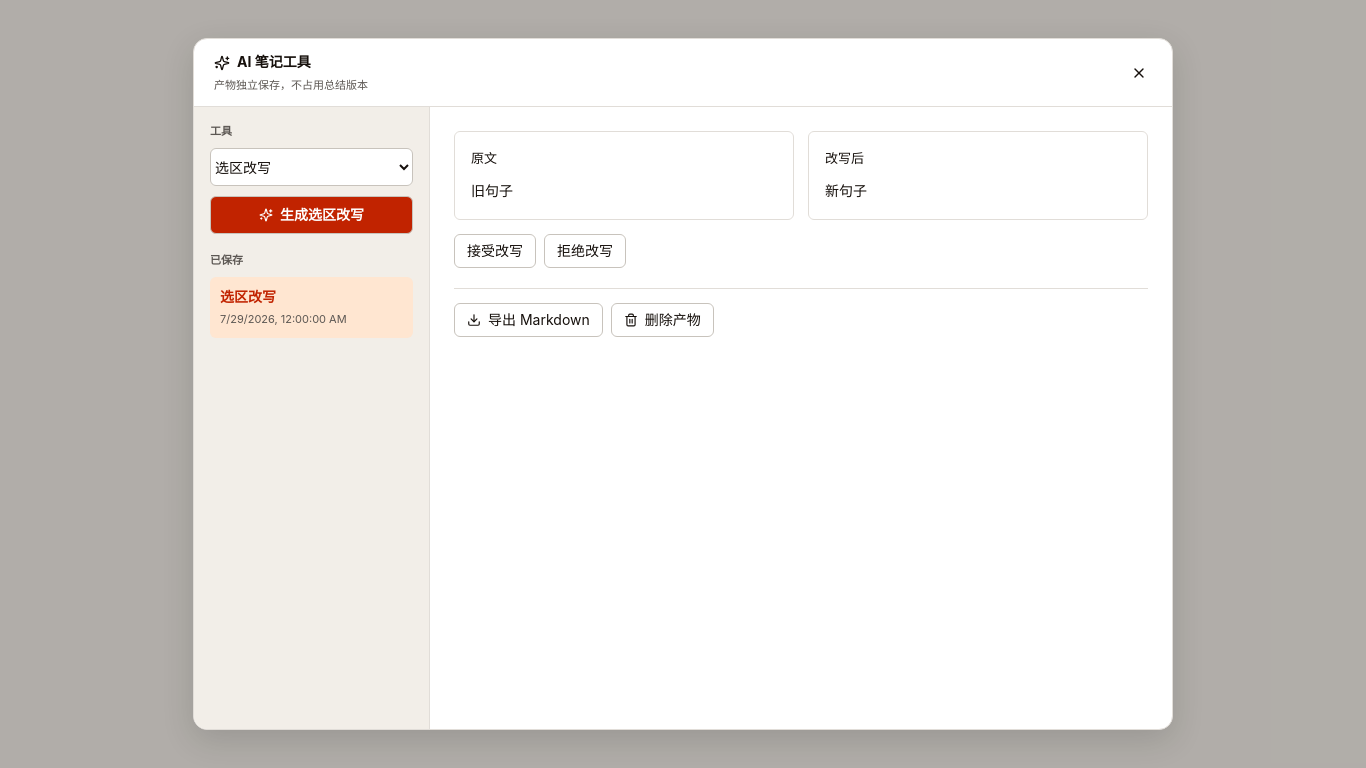
Test: AiArtifactPanel › 拒绝改写不会修改正文
Expected: the text "旧句子" is shown, [471, 182, 513, 199]
Click the button "拒绝改写": coordinates (585, 251) [544, 234, 626, 268]
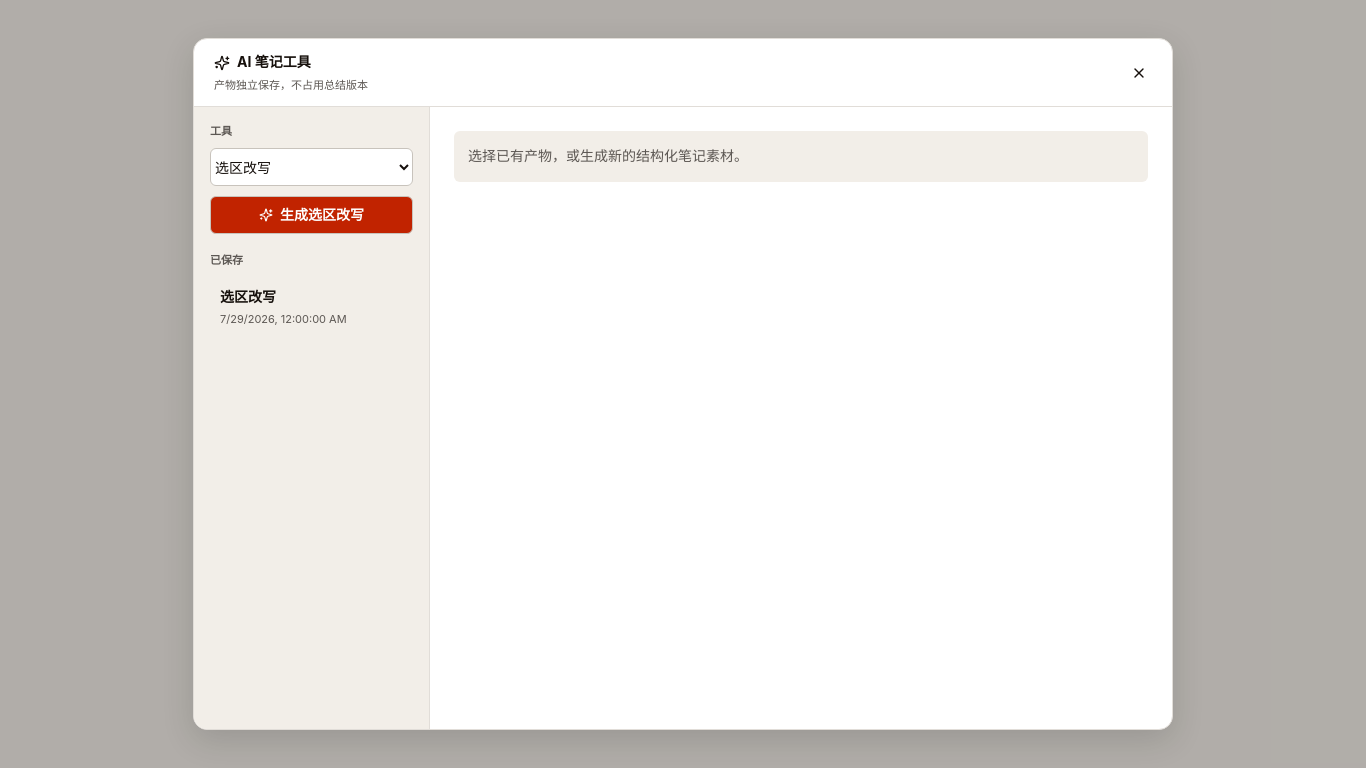
Now the text "旧句子" is gone
